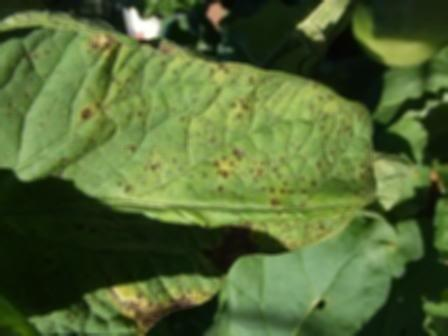Tomato Early blight leaf: (7, 17, 385, 333)
